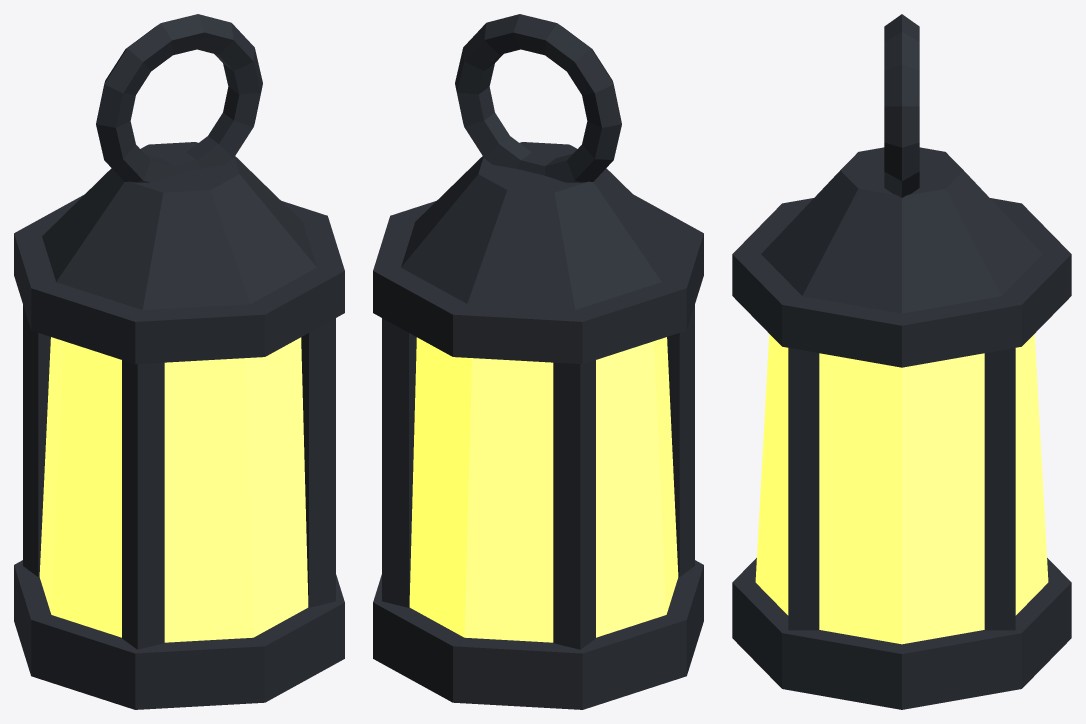
Rendered from Lantern.fbx.
3 views of the same model, side by side, from view 1: azimuth 30°, elevation 25°; view 2: azimuth 150°, elevation 25°; view 3: azimuth 270°, elevation 25° (orthographic).
Visible parts, largest first — view 1: Lantern; view 2: Lantern; view 3: Lantern.
Boxes of the visible parts, x1,y1,x2,y2 form: Lantern: (14, 14, 344, 709); Lantern: (373, 14, 703, 709); Lantern: (732, 14, 1071, 709).
Size of the model in its own units: 0.22 by 0.4404 by 0.22.
